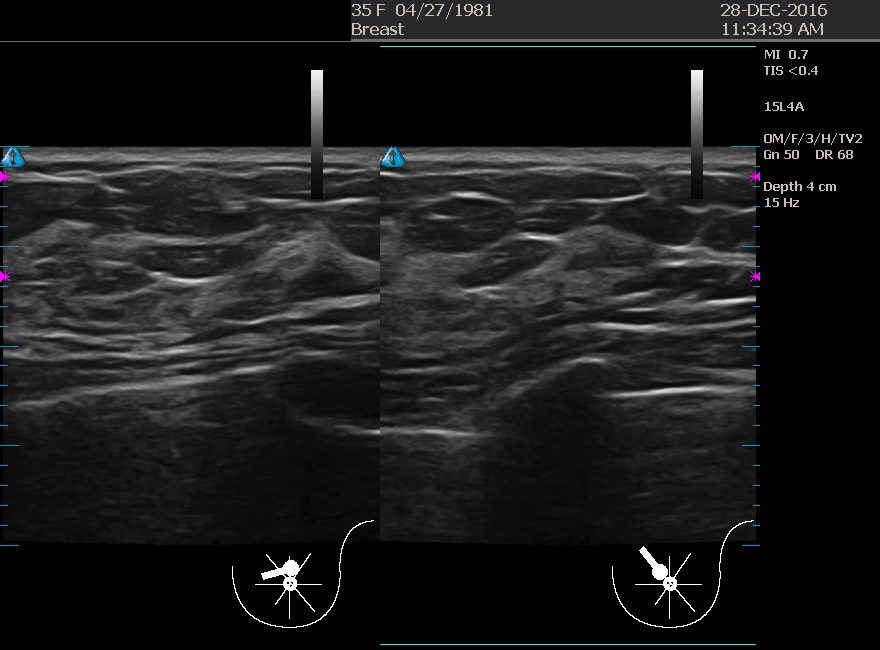BIRADS_2: (90, 171, 290, 371)
BIRADS_3: (385, 171, 585, 371)
